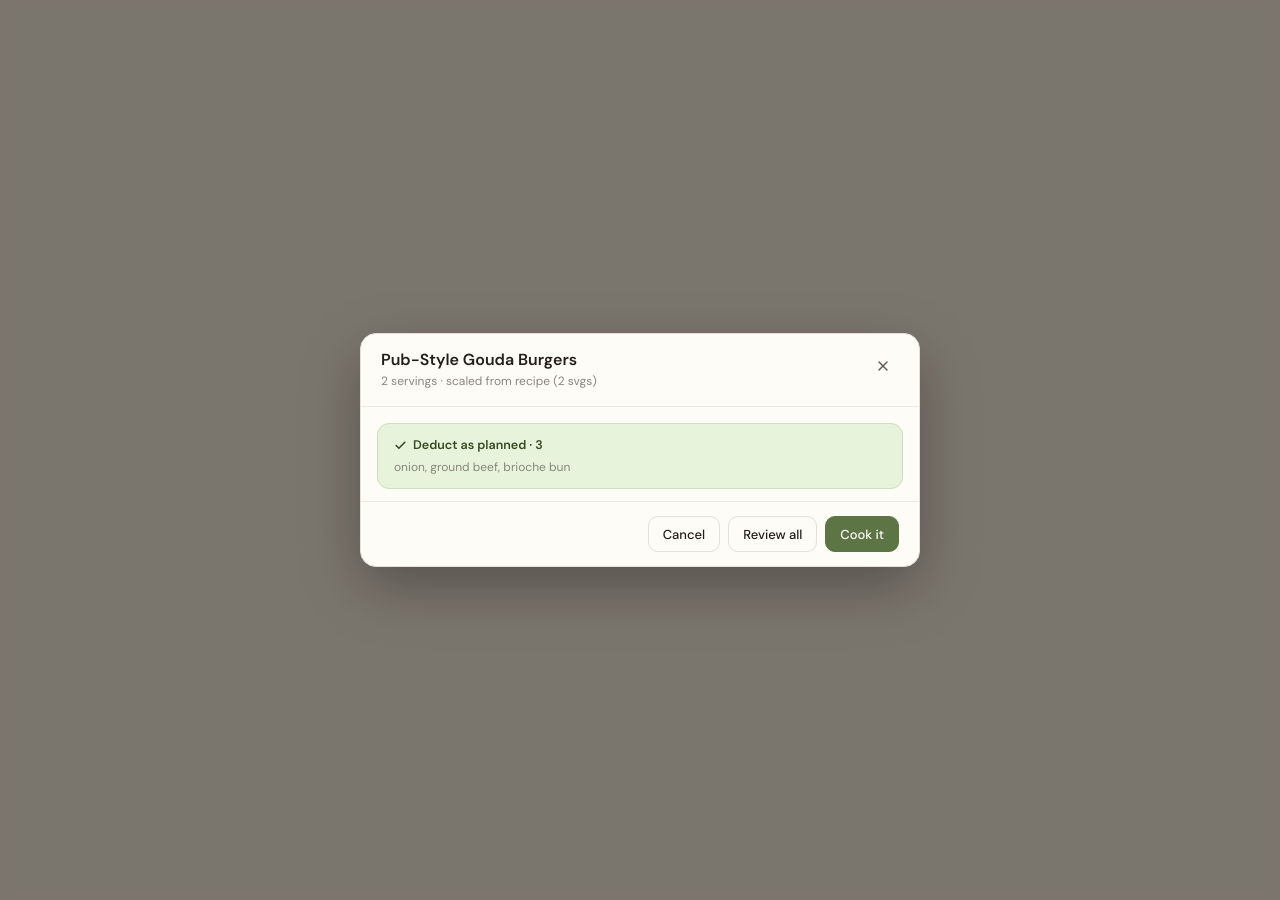
CookConfirmModal one-tap happy path › expands to the full deduction review on demand
Click the button "Review all" at (773, 534), box [728, 516, 817, 552]
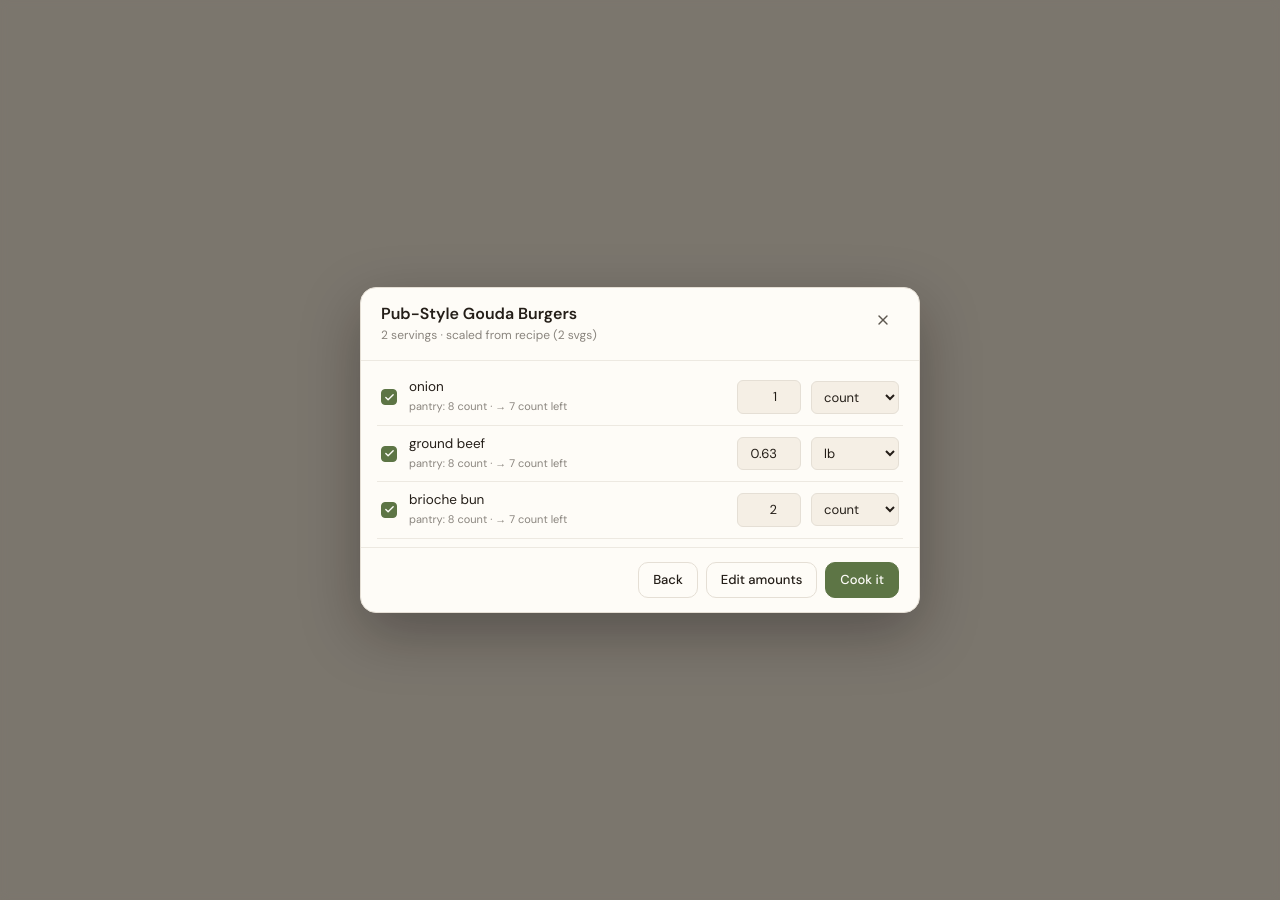
Expected: the text "onion" is shown, [409, 378, 444, 395]
Now the number of number fields is 3, box [737, 380, 801, 414]; [737, 437, 801, 470]; [737, 493, 801, 527]
